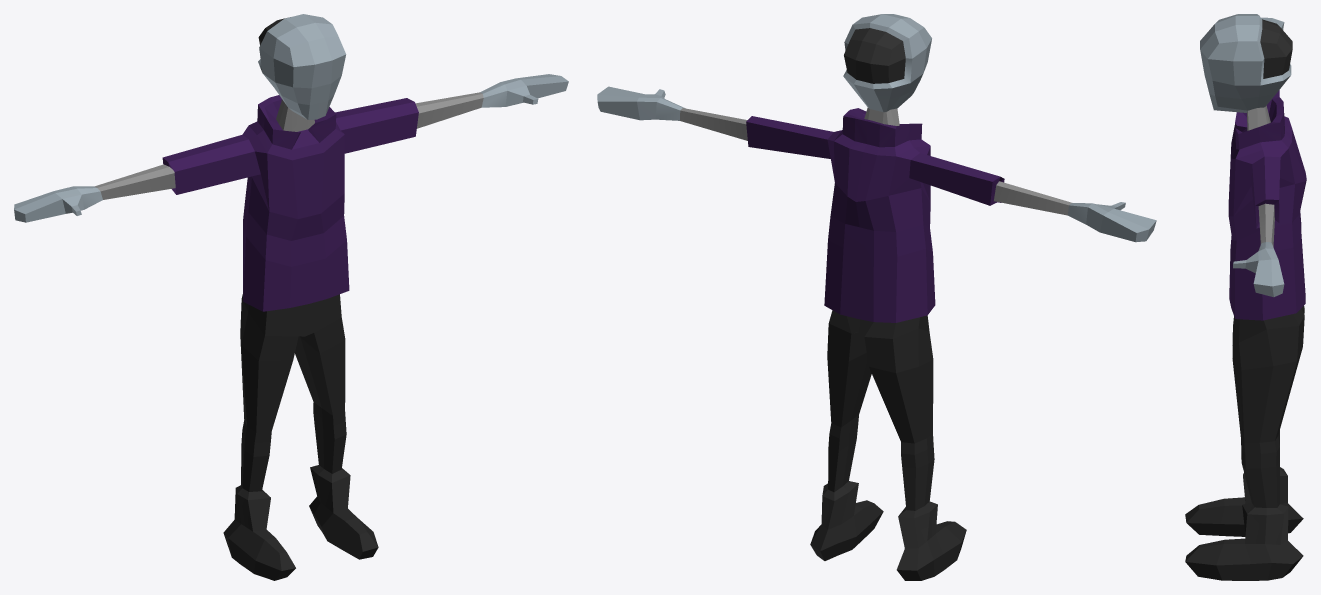
File: pandemonium_robot_01.fbx
3 renders of one model, left to right at view 1: azimuth 30°, elevation 25°; view 2: azimuth 150°, elevation 25°; view 3: azimuth 270°, elevation 25°, orthographic.
Parts seen in each view (by area): view 1: Cube.431; view 2: Cube.431; view 3: Cube.431.
Part boxes in pixels (box(x1,y1,x2,y2)): Cube.431: box(14, 14, 568, 580); Cube.431: box(597, 14, 1156, 580); Cube.431: box(1185, 14, 1306, 580).
Bounding box in the file's own units: 541 × 501 × 104.
